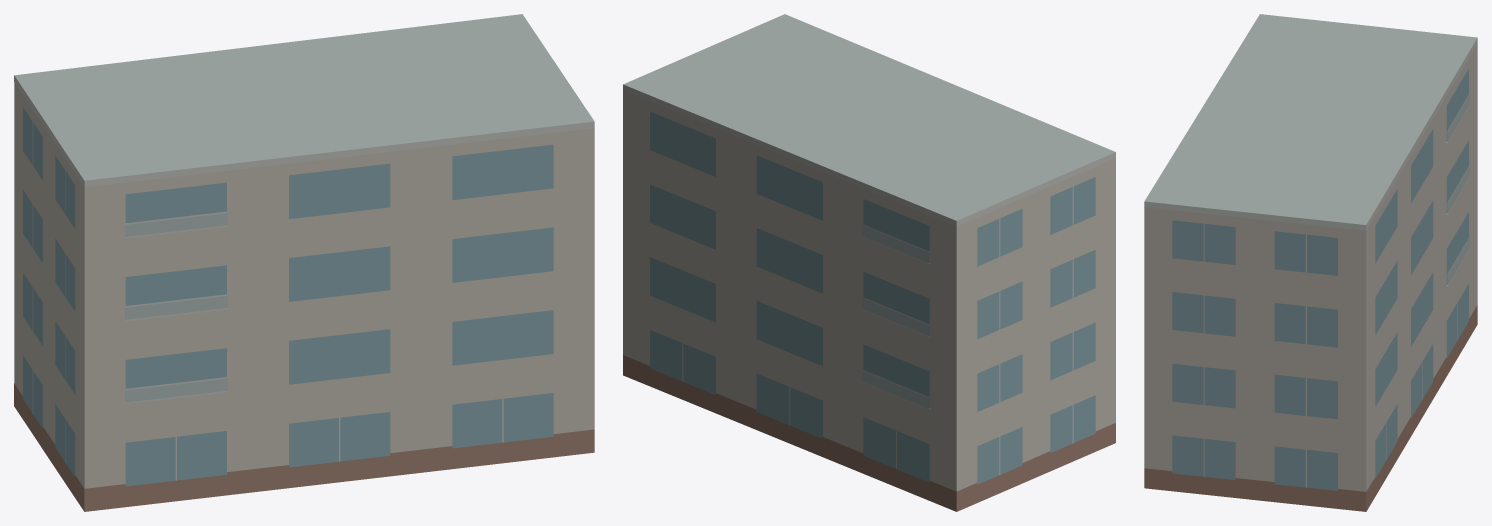
File: survey-upis-32461881.glb
The picture shows the model from 3 angles, left to right: view 1: azimuth 30°, elevation 25°; view 2: azimuth 150°, elevation 25°; view 3: azimuth 270°, elevation 25°; orthographic projection. The views are drawn at different scales.
Parts seen in each view (by area): view 1: survey-upis-32461881.tmp; view 2: survey-upis-32461881.tmp; view 3: survey-upis-32461881.tmp.
Boxes of the visible parts, box(x1,y1,x2,y2) form: survey-upis-32461881.tmp: box(14, 14, 594, 511); survey-upis-32461881.tmp: box(623, 14, 1115, 511); survey-upis-32461881.tmp: box(1144, 14, 1477, 511).
Size of the model in its own units: 19.27 by 12.2 by 12.86.
